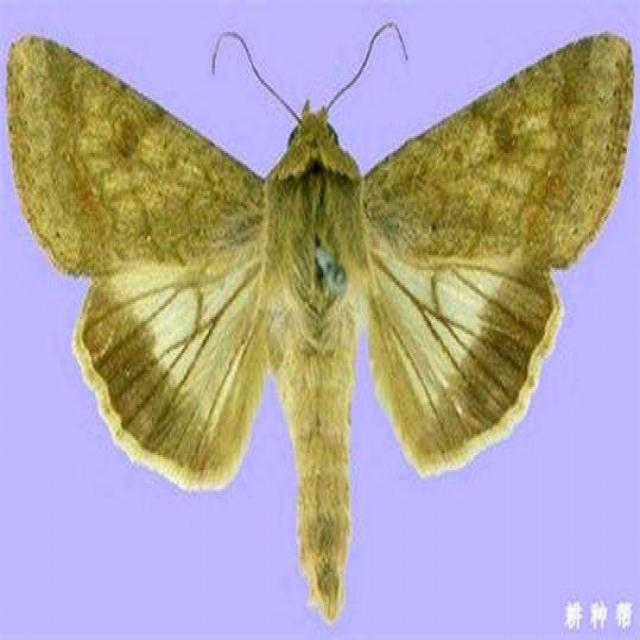BeetArmyWorm-Adult-: (2, 9, 633, 631)
